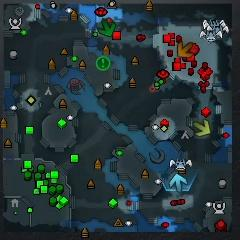Other: (96, 56, 111, 71)
x2: (193, 120, 211, 137)
x3: (169, 174, 188, 192)
x4: (98, 18, 115, 37)
x5: (177, 41, 193, 57)
